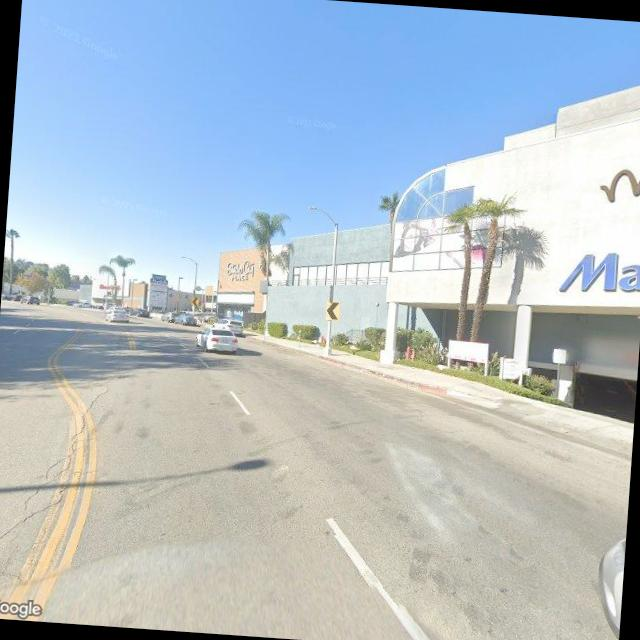pothole: (0, 374, 111, 594)
